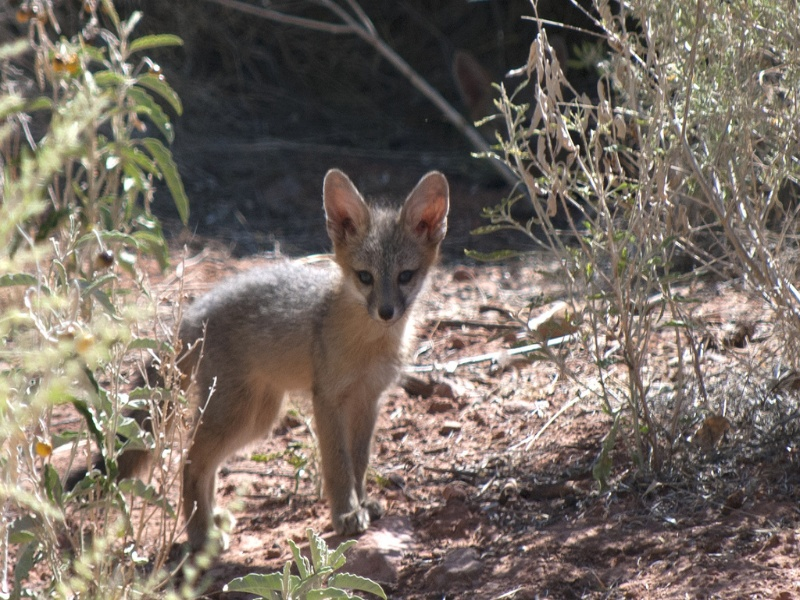fox: (76, 169, 447, 558)
